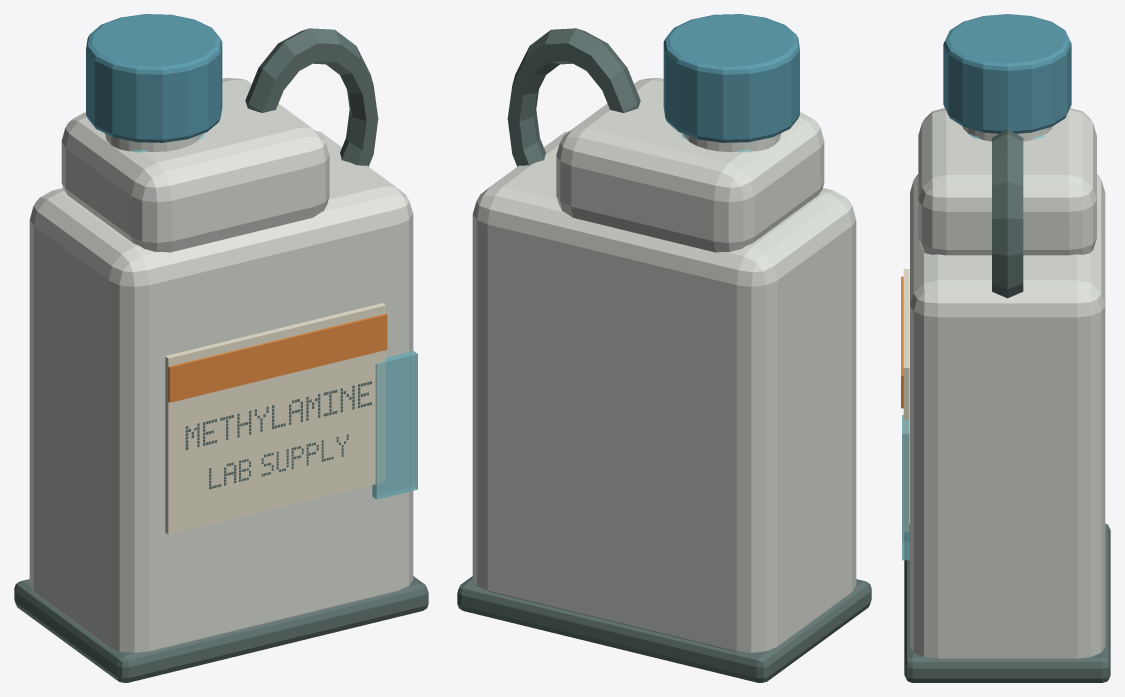
File: methylamine.glb
The picture shows the model from 3 angles, left to right: view 1: azimuth 30°, elevation 25°; view 2: azimuth 150°, elevation 25°; view 3: azimuth 270°, elevation 25°; orthographic projection. The views are drawn at different scales.
Visible parts, largest first — view 1: MethylamineJug, MethylamineLabel, MethylamineShoulder, MethylamineCap, MethylamineBase, MethylamineHandle, MethylamineLiquidWindow, MethylamineNeck; view 2: MethylamineJug, MethylamineShoulder, MethylamineCap, MethylamineBase, MethylamineHandle, MethylamineNeck; view 3: MethylamineJug, MethylamineShoulder, MethylamineCap, MethylamineBase, MethylamineHandle, MethylamineLabel, MethylamineLiquidWindow, MethylamineNeck.
Part boxes in pixels (<box>): MethylamineJug: <box>29,131,413,652</box>; MethylamineLabel: <box>165,303,387,534</box>; MethylamineShoulder: <box>61,78,329,252</box>; MethylamineCap: <box>86,14,222,142</box>; MethylamineBase: <box>14,576,428,682</box>; MethylamineHandle: <box>245,28,378,166</box>; MethylamineLiquidWindow: <box>372,351,417,499</box>; MethylamineNeck: <box>105,133,202,152</box>; MethylamineJug: <box>472,131,856,652</box>; MethylamineShoulder: <box>556,78,824,252</box>; MethylamineCap: <box>663,14,799,142</box>; MethylamineBase: <box>457,576,871,682</box>; MethylamineHandle: <box>507,28,640,166</box>; MethylamineNeck: <box>683,133,780,152</box>; MethylamineJug: <box>910,174,1105,659</box>; MethylamineShoulder: <box>918,108,1096,255</box>; MethylamineCap: <box>943,14,1071,133</box>; MethylamineBase: <box>904,523,1110,682</box>; MethylamineHandle: <box>992,129,1023,298</box>; MethylamineLabel: <box>901,269,909,531</box>; MethylamineLiquidWindow: <box>902,415,909,560</box>; MethylamineNeck: <box>962,126,1052,141</box>.
Size of the model in its own units: 0.12 by 0.216 by 0.0755.
